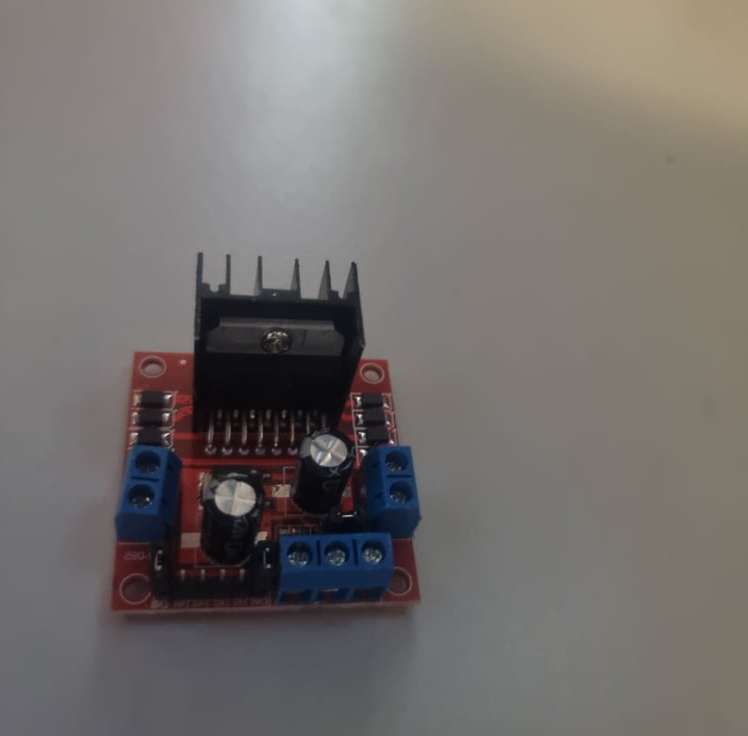MOTOR: (112, 251, 422, 613)
